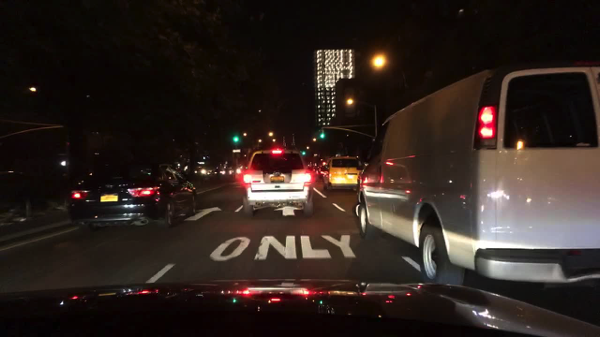car: (355, 59, 599, 292), (67, 162, 197, 235), (241, 148, 316, 218), (323, 156, 366, 193), (1, 171, 33, 220), (218, 166, 234, 182), (206, 169, 217, 181), (194, 168, 206, 178), (236, 164, 245, 175), (318, 164, 325, 178)
traffic light: (301, 145, 306, 156), (232, 135, 237, 145), (319, 131, 324, 139)
traffic sign: (232, 149, 241, 153)
